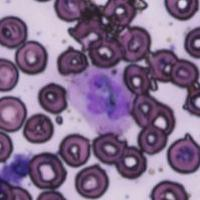N: (66, 67, 134, 137)
